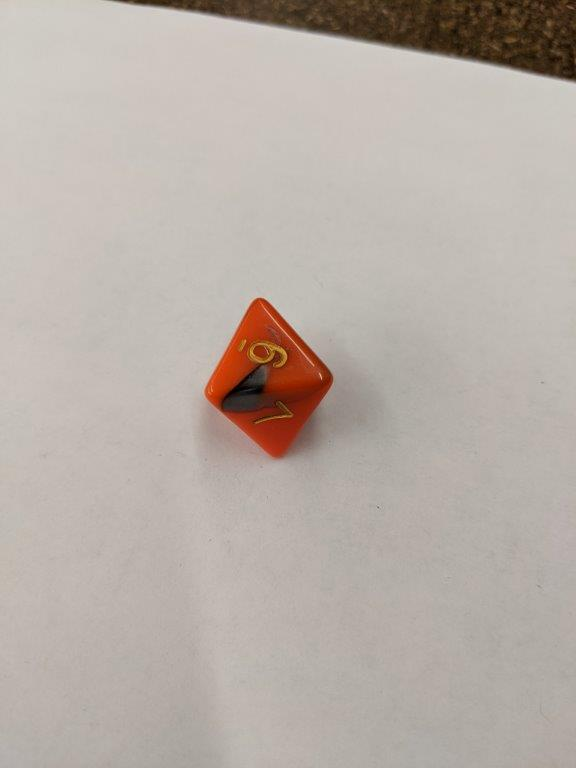d8-6: (205, 298, 337, 462)
